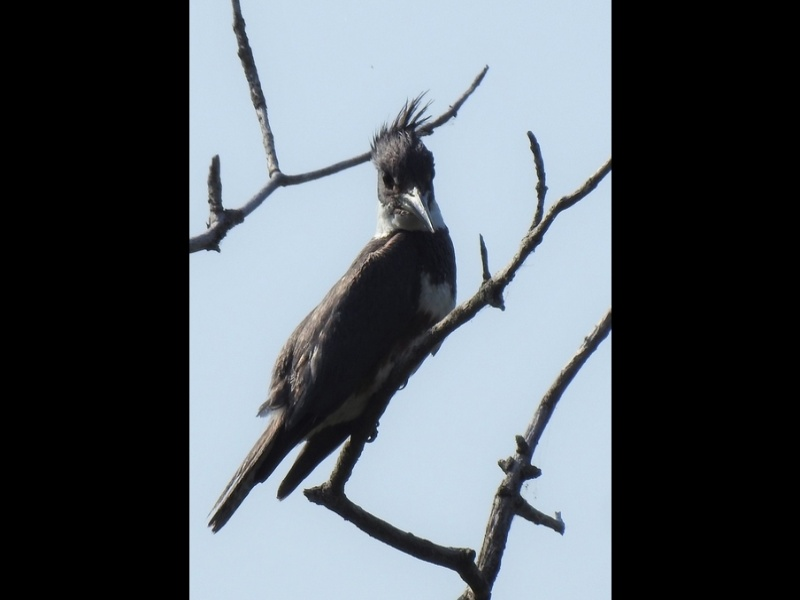kingfisher: (208, 84, 459, 536)
